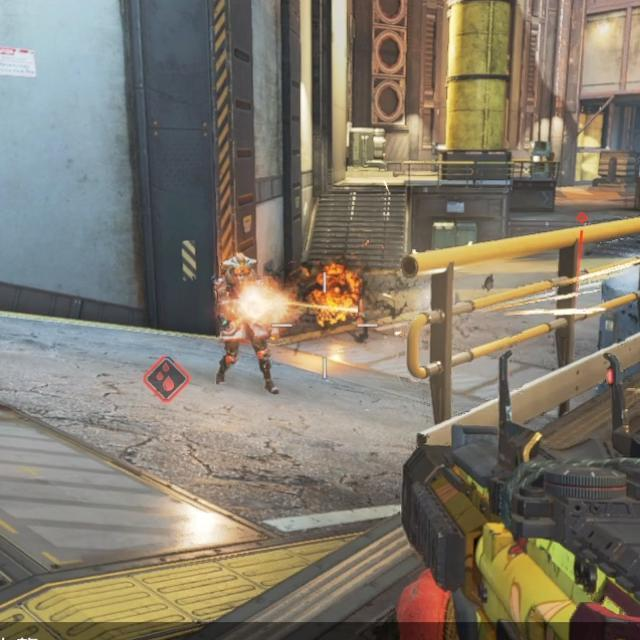avatar: (212, 251, 278, 395)
